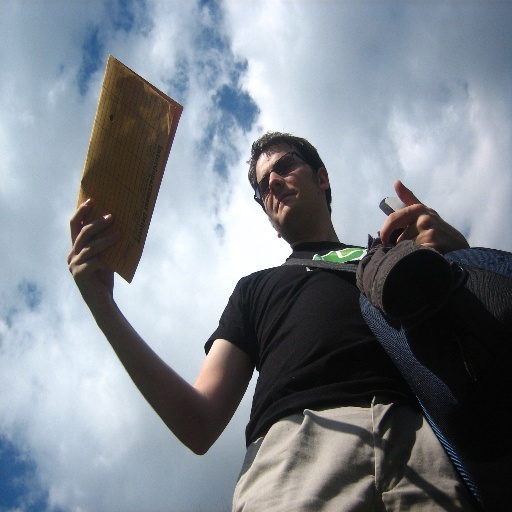hand: (377, 177, 470, 257), (57, 182, 118, 293)
